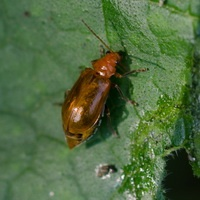insect: (62, 20, 147, 148)
